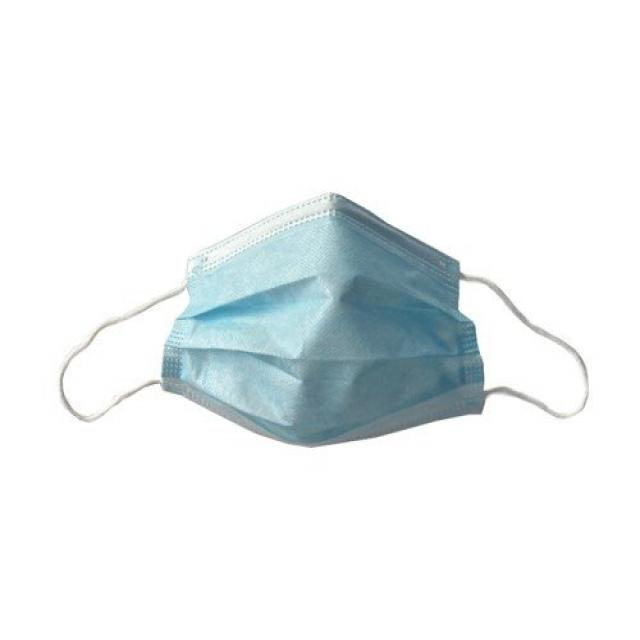non-organic waste: (58, 190, 590, 447)
